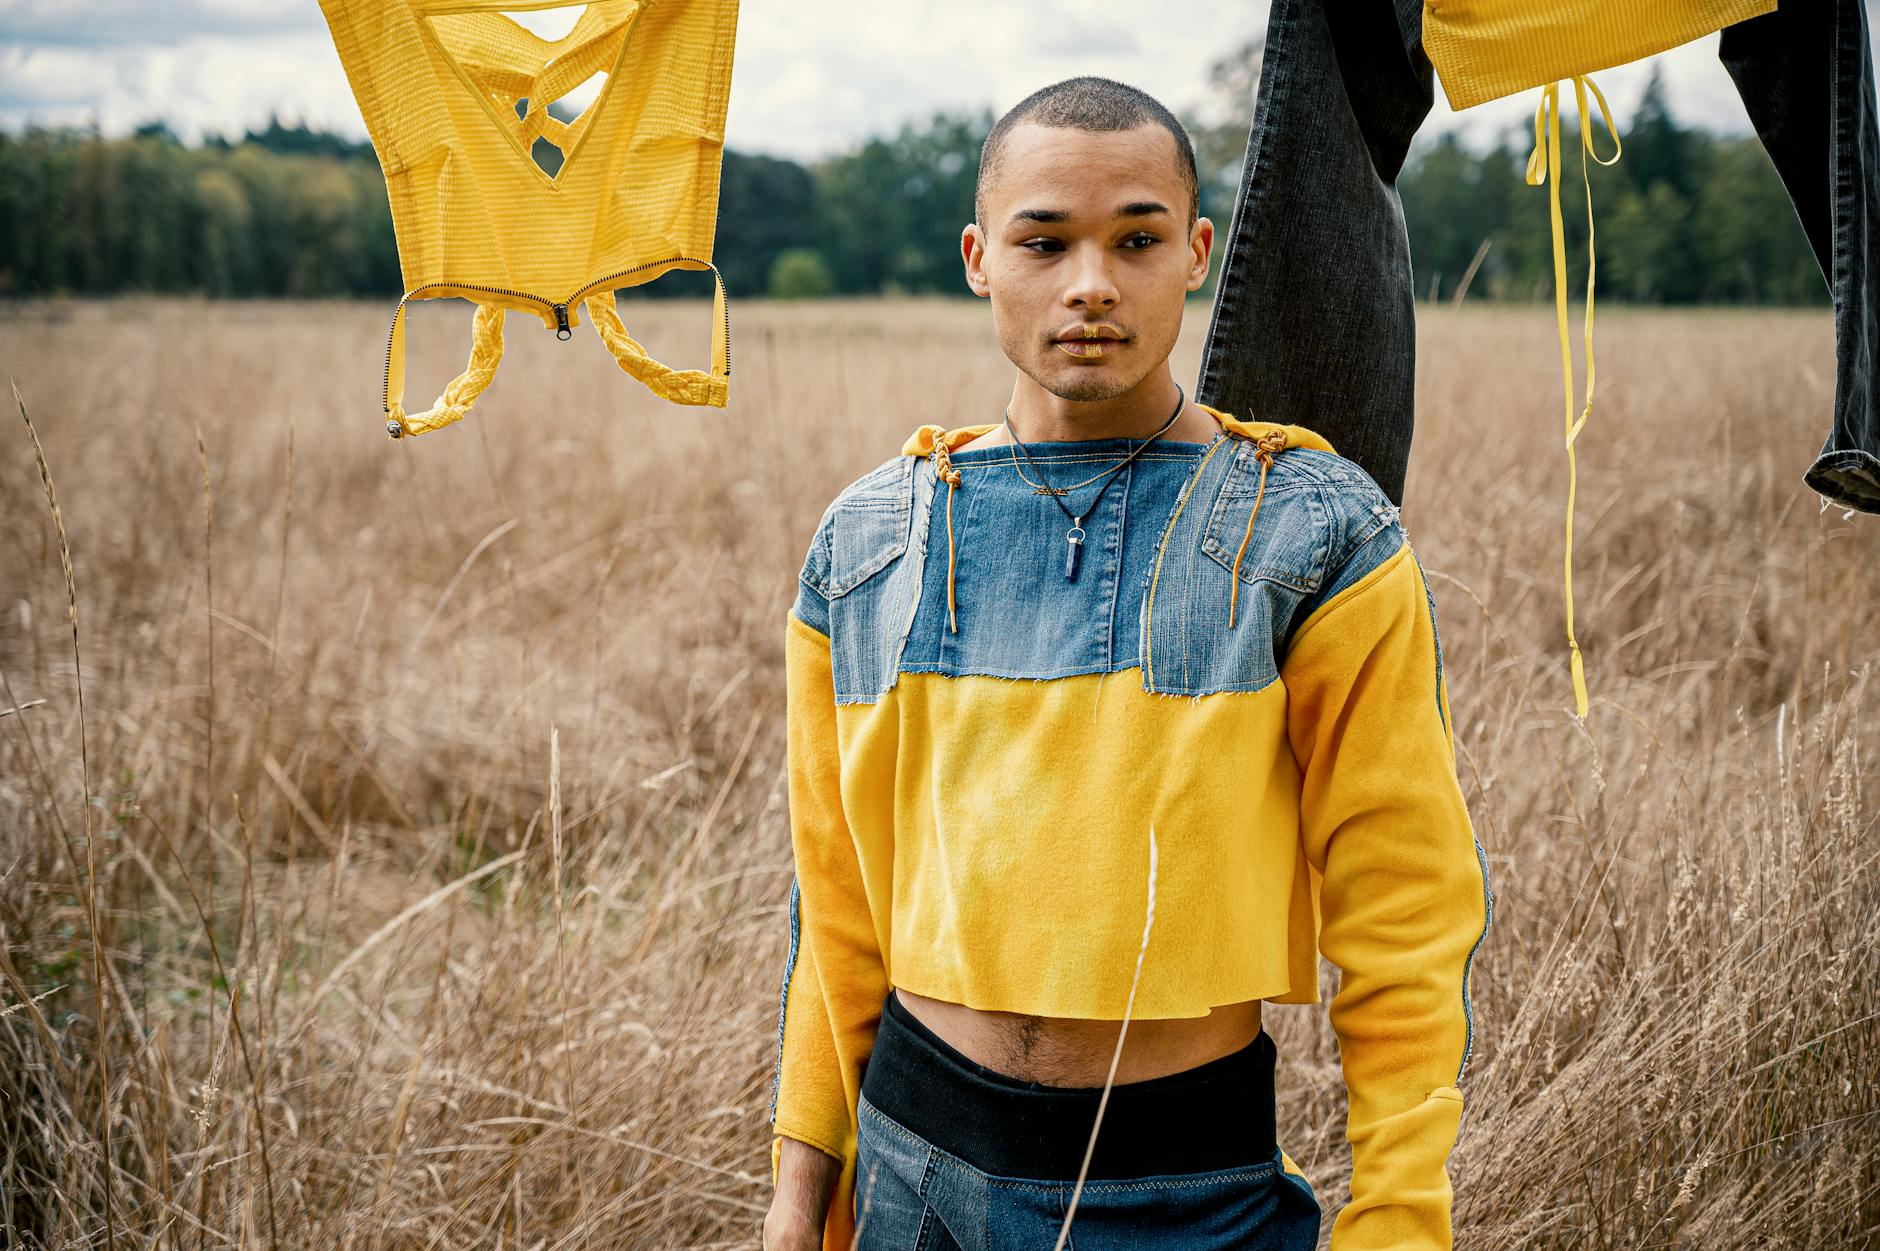crop_top: (816, 441, 1365, 1036)
